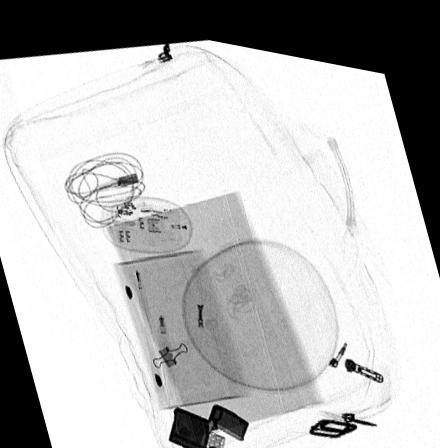Lighter: (167, 393, 249, 448)
